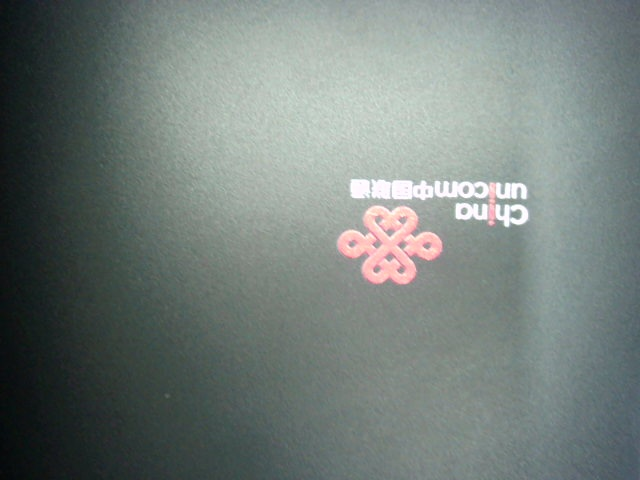AC_ChinaUnicom: (332, 174, 535, 292)
